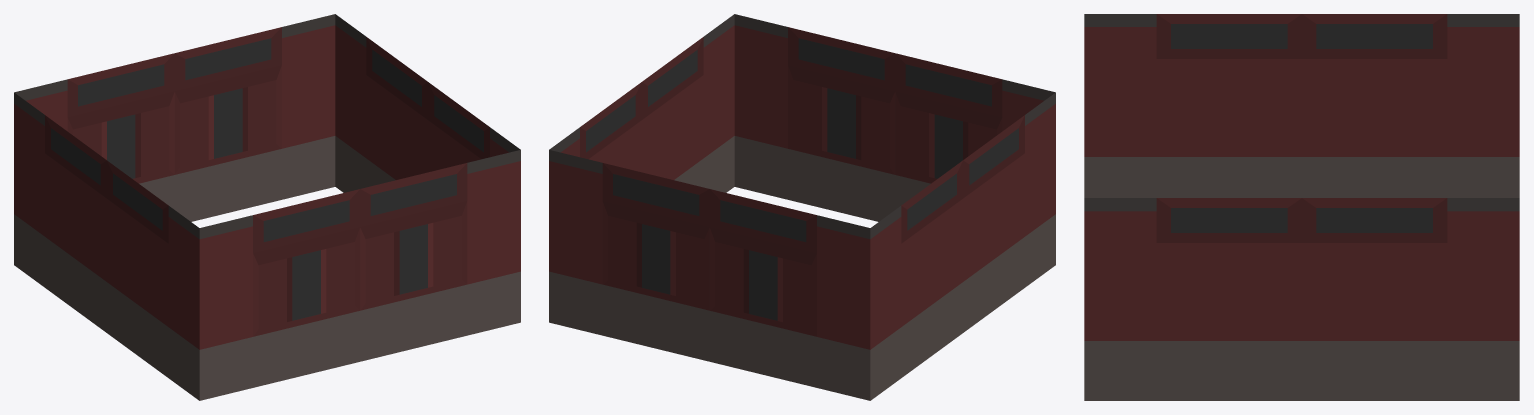
The model's file is StackA-Sm_ALOD2.fbx.
The picture shows the model from 3 angles, left to right: view 1: azimuth 30°, elevation 25°; view 2: azimuth 150°, elevation 25°; view 3: azimuth 270°, elevation 25°; orthographic projection. The views are drawn at different scales.
Visible parts, largest first — view 1: StackA-Sm_ALOD2; view 2: StackA-Sm_ALOD2; view 3: StackA-Sm_ALOD2.
Part boxes in pixels (bbox=[...]): StackA-Sm_ALOD2: bbox=[14, 14, 520, 400]; StackA-Sm_ALOD2: bbox=[549, 14, 1055, 400]; StackA-Sm_ALOD2: bbox=[1084, 14, 1519, 400].
Size of the model in its own units: 750 by 386 by 750.
